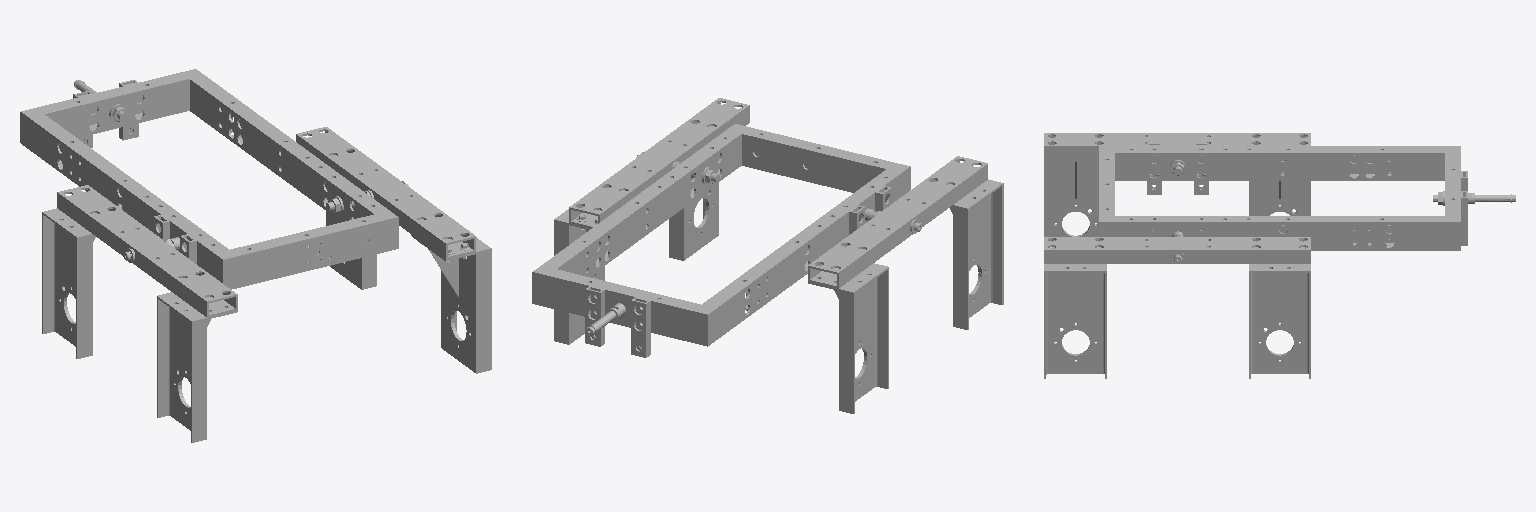
URDF robot description (astro):
<robot
  name="astro">
  <link
    name="base_link">
    <inertial>
      <origin
        xyz="-0.0049684 0.29954 -0.0027089"
        rpy="0 0 0" />
      <mass
        value="2.5841" />
      <inertia
        ixx="0.085247"
        ixy="-0.00022295"
        ixz="0.0021721"
        iyy="0.11902"
        iyz="-0.00020774"
        izz="0.033881" />
    </inertial>
    <visual>
      <origin
        xyz="0 0 0"
        rpy="0 0 0" />
      <geometry>
        <mesh
          filename="package://astro/meshes/base_link.STL" />
      </geometry>
      <material
        name="">
        <color
          rgba="0.75294 0.75294 0.75294 1" />
      </material>
    </visual>
    <collision>
      <origin
        xyz="0 0 0"
        rpy="0 0 0" />
      <geometry>
        <mesh
          filename="package://astro/meshes/base_link.STL" />
      </geometry>
    </collision>
  </link>
  <link
    name="left_link">
    <inertial>
      <origin
        xyz="0.016805 2.5964E-05 -0.056637"
        rpy="0 0 0" />
      <mass
        value="1.3521" />
      <inertia
        ixx="0.026603"
        ixy="-4.8774E-07"
        ixz="0.00099133"
        iyy="0.0039284"
        iyz="1.8028E-06"
        izz="0.023236" />
    </inertial>
    <visual>
      <origin
        xyz="0 0 0"
        rpy="0 0 0" />
      <geometry>
        <mesh
          filename="package://astro/meshes/left_link.STL" />
      </geometry>
      <material
        name="">
        <color
          rgba="0.75294 0.75294 0.75294 1" />
      </material>
    </visual>
    <collision>
      <origin
        xyz="0 0 0"
        rpy="0 0 0" />
      <geometry>
        <mesh
          filename="package://astro/meshes/left_link.STL" />
      </geometry>
    </collision>
  </link>
  <joint
    name="left_joint"
    type="revolute">
    <origin
      xyz="-0.19865 -0.1651 0.3005"
      rpy="1.2636E-09 -9.8255E-13 3.1416" />
    <parent
      link="base_link" />
    <child
      link="left_link" />
    <axis
      xyz="1 0 0" />
    <limit
      lower="-0.69813"
      upper="0.69813"
      effort="1000"
      velocity="0.75" />
  </joint>
  <link
    name="left_f_link">
    <inertial>
      <origin
        xyz="0.014268 1.3036E-06 5.5831E-07"
        rpy="0 0 0" />
      <mass
        value="13.647" />
      <inertia
        ixx="0.003429"
        ixy="-1.0912E-06"
        ixz="1.5973E-07"
        iyy="0.0056935"
        iyz="-1.1037E-09"
        izz="0.0056937" />
    </inertial>
    <visual>
      <origin
        xyz="0 0 0"
        rpy="0 0 0" />
      <geometry>
        <mesh
          filename="package://astro/meshes/left_f_link.STL" />
      </geometry>
      <material
        name="">
        <color
          rgba="0.75294 0.75294 0.75294 1" />
      </material>
    </visual>
    <collision>
      <origin
        xyz="0 0 0"
        rpy="0 0 0" />
      <geometry>
        <mesh
          filename="package://astro/meshes/left_f_link.STL" />
      </geometry>
    </collision>
  </link>
  <joint
    name="left_f_joint"
    type="fixed">
    <origin
      xyz="0.16523 0.1651 -0.1505"
      rpy="3.1416 -9.8255E-13 3.1416" />
    <parent
      link="left_link" />
    <child
      link="left_f_link" />
    <axis
      xyz="-1 0 0" />
    <limit
      effort="1000"
      velocity="0.75" />
  </joint>
  <link
    name="left_m_link">
    <inertial>
      <origin
        xyz="0.014268 1.3036E-06 5.585E-07"
        rpy="0 0 0" />
      <mass
        value="13.647" />
      <inertia
        ixx="0.003429"
        ixy="-1.0912E-06"
        ixz="1.5973E-07"
        iyy="0.0056935"
        iyz="-1.1037E-09"
        izz="0.0056937" />
    </inertial>
    <visual>
      <origin
        xyz="0 0 0"
        rpy="0 0 0" />
      <geometry>
        <mesh
          filename="package://astro/meshes/left_m_link.STL" />
      </geometry>
      <material
        name="">
        <color
          rgba="0.75294 0.75294 0.75294 1" />
      </material>
    </visual>
    <collision>
      <origin
        xyz="0 0 0"
        rpy="0 0 0" />
      <geometry>
        <mesh
          filename="package://astro/meshes/left_m_link.STL" />
      </geometry>
    </collision>
  </link>
  <joint
    name="left_m_joint"
    type="fixed">
    <origin
      xyz="0.16523 -0.1651 -0.1505"
      rpy="1.5708 -9.8255E-13 3.1416" />
    <parent
      link="left_link" />
    <child
      link="left_m_link" />
    <axis
      xyz="-1 0 0" />
    <limit
      effort="1000"
      velocity="0.75" />
  </joint>
  <link
    name="right_link">
    <inertial>
      <origin
        xyz="0.015941 1.983E-05 -0.054516"
        rpy="0 0 0" />
      <mass
        value="1.4176" />
      <inertia
        ixx="0.028615"
        ixy="1.293E-05"
        ixz="0.0010427"
        iyy="0.0040947"
        iyz="2.1804E-06"
        izz="0.025148" />
    </inertial>
    <visual>
      <origin
        xyz="0 0 0"
        rpy="0 0 0" />
      <geometry>
        <mesh
          filename="package://astro/meshes/right_link.STL" />
      </geometry>
      <material
        name="">
        <color
          rgba="0.75294 0.75294 0.75294 1" />
      </material>
    </visual>
    <collision>
      <origin
        xyz="0 0 0"
        rpy="0 0 0" />
      <geometry>
        <mesh
          filename="package://astro/meshes/right_link.STL" />
      </geometry>
    </collision>
  </link>
  <joint
    name="right_joint"
    type="revolute">
    <origin
      xyz="0.19865 -0.1651 0.3005"
      rpy="1.2636E-09 -0.00036232 1.4953E-16" />
    <parent
      link="base_link" />
    <child
      link="right_link" />
    <axis
      xyz="1 0 -0.00036232" />
    <limit
      lower="-0.69813"
      upper="0.69813"
      effort="1000"
      velocity="0.75" />
  </joint>
  <link
    name="right_f_link">
    <inertial>
      <origin
        xyz="0.014268 1.3036E-06 5.5831E-07"
        rpy="0 0 0" />
      <mass
        value="13.647" />
      <inertia
        ixx="0.003429"
        ixy="-1.0912E-06"
        ixz="1.5973E-07"
        iyy="0.0056935"
        iyz="-1.1037E-09"
        izz="0.0056937" />
    </inertial>
    <visual>
      <origin
        xyz="0 0 0"
        rpy="0 0 0" />
      <geometry>
        <mesh
          filename="package://astro/meshes/right_f_link.STL" />
      </geometry>
      <material
        name="">
        <color
          rgba="0.75294 0.75294 0.75294 1" />
      </material>
    </visual>
    <collision>
      <origin
        xyz="0 0 0"
        rpy="0 0 0" />
      <geometry>
        <mesh
          filename="package://astro/meshes/right_f_link.STL" />
      </geometry>
    </collision>
  </link>
  <joint
    name="right_f_joint"
    type="fixed">
    <origin
      xyz="0.16517 -0.1651 -0.15055"
      rpy="1.5708 -0.00036232 3.1416" />
    <parent
      link="right_link" />
    <child
      link="right_f_link" />
    <axis
      xyz="-1 0 0" />
    <limit
      effort="1000"
      velocity="0.75" />
  </joint>
  <link
    name="right_m_link">
    <inertial>
      <origin
        xyz="0.014268 1.3036E-06 5.5831E-07"
        rpy="0 0 0" />
      <mass
        value="13.647" />
      <inertia
        ixx="0.003429"
        ixy="-1.0912E-06"
        ixz="1.5972E-07"
        iyy="0.0056935"
        iyz="-1.1037E-09"
        izz="0.0056937" />
    </inertial>
    <visual>
      <origin
        xyz="0 0 0"
        rpy="0 0 0" />
      <geometry>
        <mesh
          filename="package://astro/meshes/right_m_link.STL" />
      </geometry>
      <material
        name="">
        <color
          rgba="0.75294 0.75294 0.75294 1" />
      </material>
    </visual>
    <collision>
      <origin
        xyz="0 0 0"
        rpy="0 0 0" />
      <geometry>
        <mesh
          filename="package://astro/meshes/right_m_link.STL" />
      </geometry>
    </collision>
  </link>
  <joint
    name="right_m_joint"
    type="fixed">
    <origin
      xyz="0.16517 0.1651 -0.15055"
      rpy="1.5708 -0.00036232 3.1416" />
    <parent
      link="right_link" />
    <child
      link="right_m_link" />
    <axis
      xyz="-1 0 0" />
    <limit
      effort="1000"
      velocity="0.75" />
  </joint>
  <link
    name="back_link">
    <inertial>
      <origin
        xyz="-0.0049684 0.29954 -0.0027089"
        rpy="0 0 0" />
      <mass
        value="2.5841" />
      <inertia
        ixx="0.085247"
        ixy="-0.00022295"
        ixz="0.0021721"
        iyy="0.11902"
        iyz="-0.00020774"
        izz="0.033881" />
    </inertial>
    <visual>
      <origin
        xyz="0 0 0"
        rpy="0 0 0" />
      <geometry>
        <mesh
          filename="package://astro/meshes/back_link.STL" />
      </geometry>
      <material
        name="">
        <color
          rgba="0.75294 0.75294 0.75294 1" />
      </material>
    </visual>
    <collision>
      <origin
        xyz="0 0 0"
        rpy="0 0 0" />
      <geometry>
        <mesh
          filename="package://astro/meshes/back_link.STL" />
      </geometry>
    </collision>
  </link>
  <joint
    name="back_joint"
    type="revolute">
    <origin
      xyz="0 0.3447 0.3005"
      rpy="-6.123E-17 0 0" />
    <parent
      link="base_link" />
    <child
      link="back_link" />
    <axis
      xyz="0 1 0" />
    <limit
      lower="-0.69813"
      upper="0.69813"
      effort="1000"
      velocity="0.75" />
  </joint>
  <link
    name="back_l_link">
    <inertial>
      <origin
        xyz="0.014268 1.3036E-06 5.5832E-07"
        rpy="0 0 0" />
      <mass
        value="13.647" />
      <inertia
        ixx="0.003429"
        ixy="-1.0912E-06"
        ixz="1.5972E-07"
        iyy="0.0056935"
        iyz="-1.1037E-09"
        izz="0.0056937" />
    </inertial>
    <visual>
      <origin
        xyz="0 0 0"
        rpy="0 0 0" />
      <geometry>
        <mesh
          filename="package://astro/meshes/back_l_link.STL" />
      </geometry>
      <material
        name="">
        <color
          rgba="0.75294 0.75294 0.75294 1" />
      </material>
    </visual>
    <collision>
      <origin
        xyz="0 0 0"
        rpy="0 0 0" />
      <geometry>
        <mesh
          filename="package://astro/meshes/back_l_link.STL" />
      </geometry>
    </collision>
  </link>
  <joint
    name="back_l_joint"
    type="fixed">
    <origin
      xyz="-0.36071 0 -0.1505"
      rpy="1.5708 0 0" />
    <parent
      link="back_link" />
    <child
      link="back_l_link" />
    <axis
      xyz="-1 0 0" />
    <limit
      effort="1000"
      velocity="0.75" />
  </joint>
  <link
    name="back_r_link">
    <inertial>
      <origin
        xyz="0.014268 1.3036E-06 5.5831E-07"
        rpy="0 0 0" />
      <mass
        value="13.647" />
      <inertia
        ixx="0.003429"
        ixy="-1.0912E-06"
        ixz="1.5973E-07"
        iyy="0.0056935"
        iyz="-1.1037E-09"
        izz="0.0056937" />
    </inertial>
    <visual>
      <origin
        xyz="0 0 0"
        rpy="0 0 0" />
      <geometry>
        <mesh
          filename="package://astro/meshes/back_r_link.STL" />
      </geometry>
      <material
        name="">
        <color
          rgba="0.75294 0.75294 0.75294 1" />
      </material>
    </visual>
    <collision>
      <origin
        xyz="0 0 0"
        rpy="0 0 0" />
      <geometry>
        <mesh
          filename="package://astro/meshes/back_r_link.STL" />
      </geometry>
    </collision>
  </link>
  <joint
    name="back_r_joint"
    type="fixed">
    <origin
      xyz="0.36071 0 -0.15049"
      rpy="1.5708 7.1054E-13 3.1416" />
    <parent
      link="back_link" />
    <child
      link="back_r_link" />
    <axis
      xyz="-1 0 0" />
    <limit
      effort="1000"
      velocity="0.75" />
  </joint>
</robot>

--- Render facts (derived) ---
3 views of the same robot in one strip: view 1: azimuth 30°, elevation 25°; view 2: azimuth 150°, elevation 25°; view 3: azimuth 270°, elevation 25° (orthographic).
Robot: astro — 10 links, 9 joints (3 revolute, 6 fixed); root link base_link; default pose: every joint at zero.
Links seen in each view (by area): view 1: base_link, left_link, right_link; view 2: base_link, left_link, right_link; view 3: base_link, right_link, left_link.
Link boxes in pixels (box(x1,y1,x2,y2)): base_link: box(20, 69, 408, 289); left_link: box(42, 185, 237, 442); right_link: box(296, 127, 491, 373); base_link: box(532, 124, 921, 357); left_link: box(808, 156, 1003, 413); right_link: box(554, 98, 749, 344); base_link: box(1099, 143, 1515, 262); right_link: box(1044, 236, 1310, 378); left_link: box(1044, 133, 1310, 236).
Size in the robot's own frame: 0.4989 by 0.762 by 0.2318 metres.
3 mesh visuals loaded from 10 distinct referenced files (3 binary STL); not drawn: 7 (reference not matched to a file when rendering).